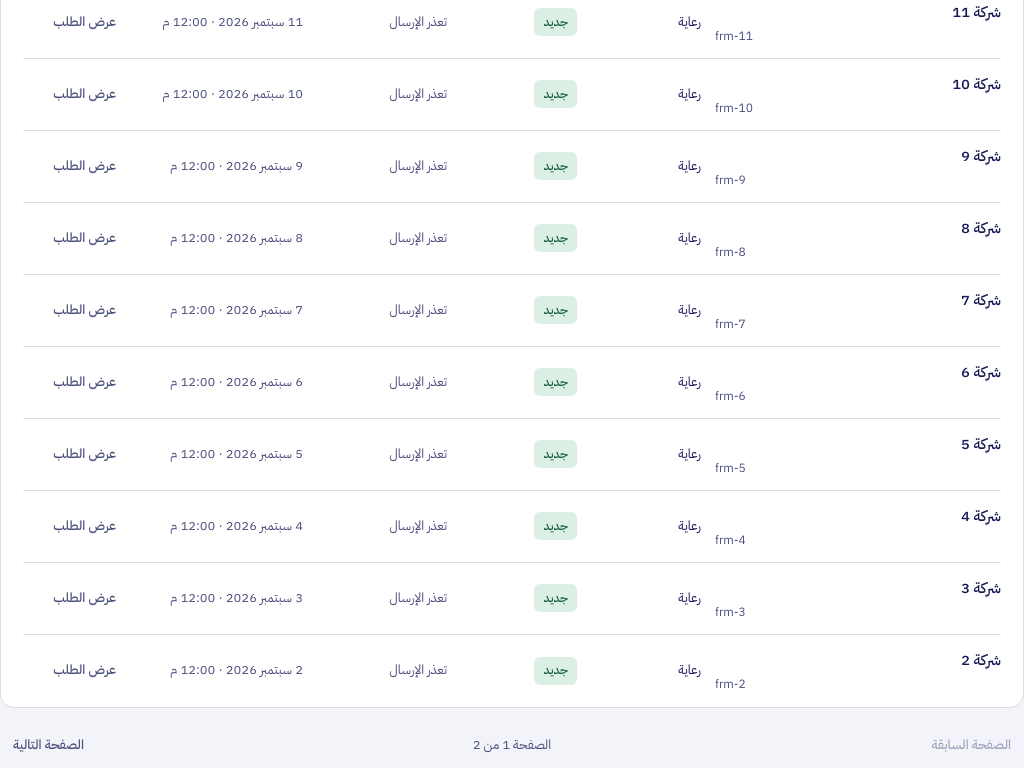
Test: Studio form-submission inbox › moves between result pages without losing the inbox route
(page scrolled)
Click the button "الصفحة التالية". click: (48, 746)
box: [0,724,97,767]
(page scrolled)
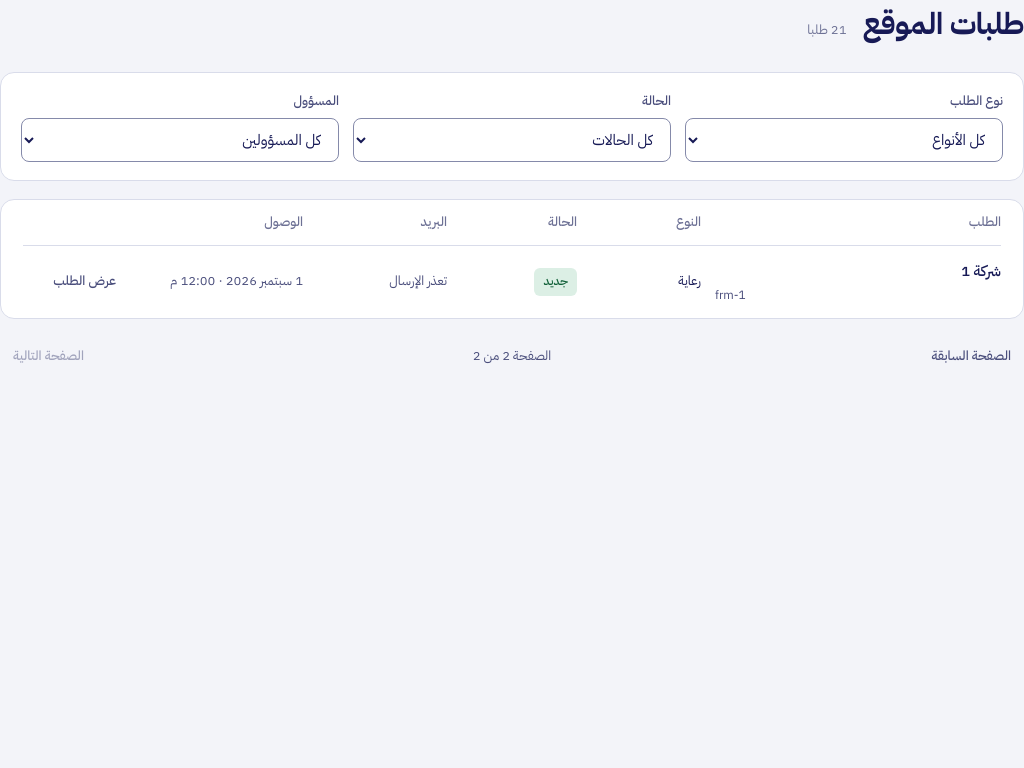
Expected: the text "شركة 1" is shown, [961,260,1001,282]
Now the button "الصفحة السابقة" is enabled, box [919,335,1023,379]
